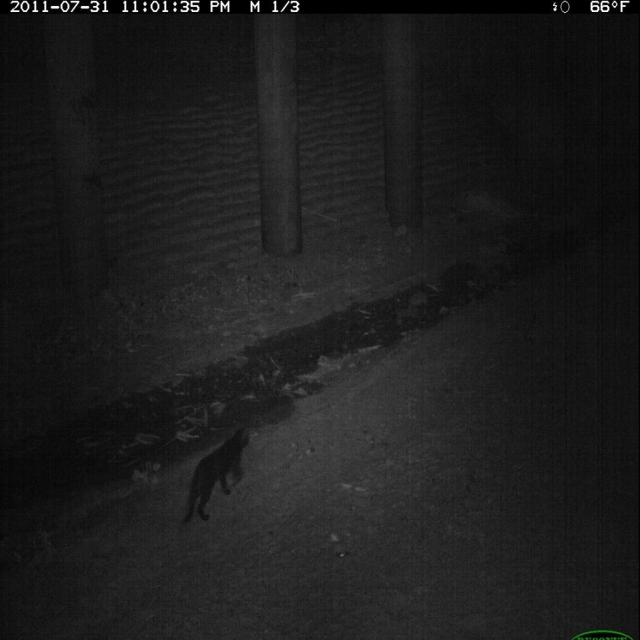cat: (178, 419, 257, 531)
